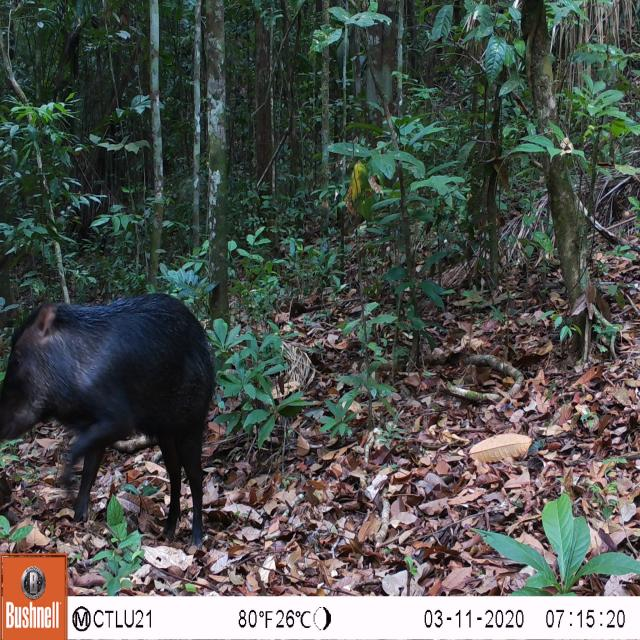White-lipped Peccary: (2, 296, 218, 544)
